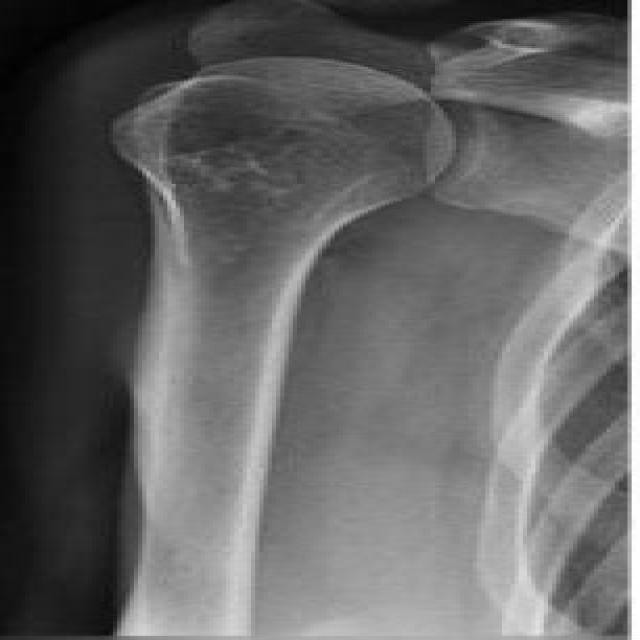pathological: (80, 46, 586, 250)
